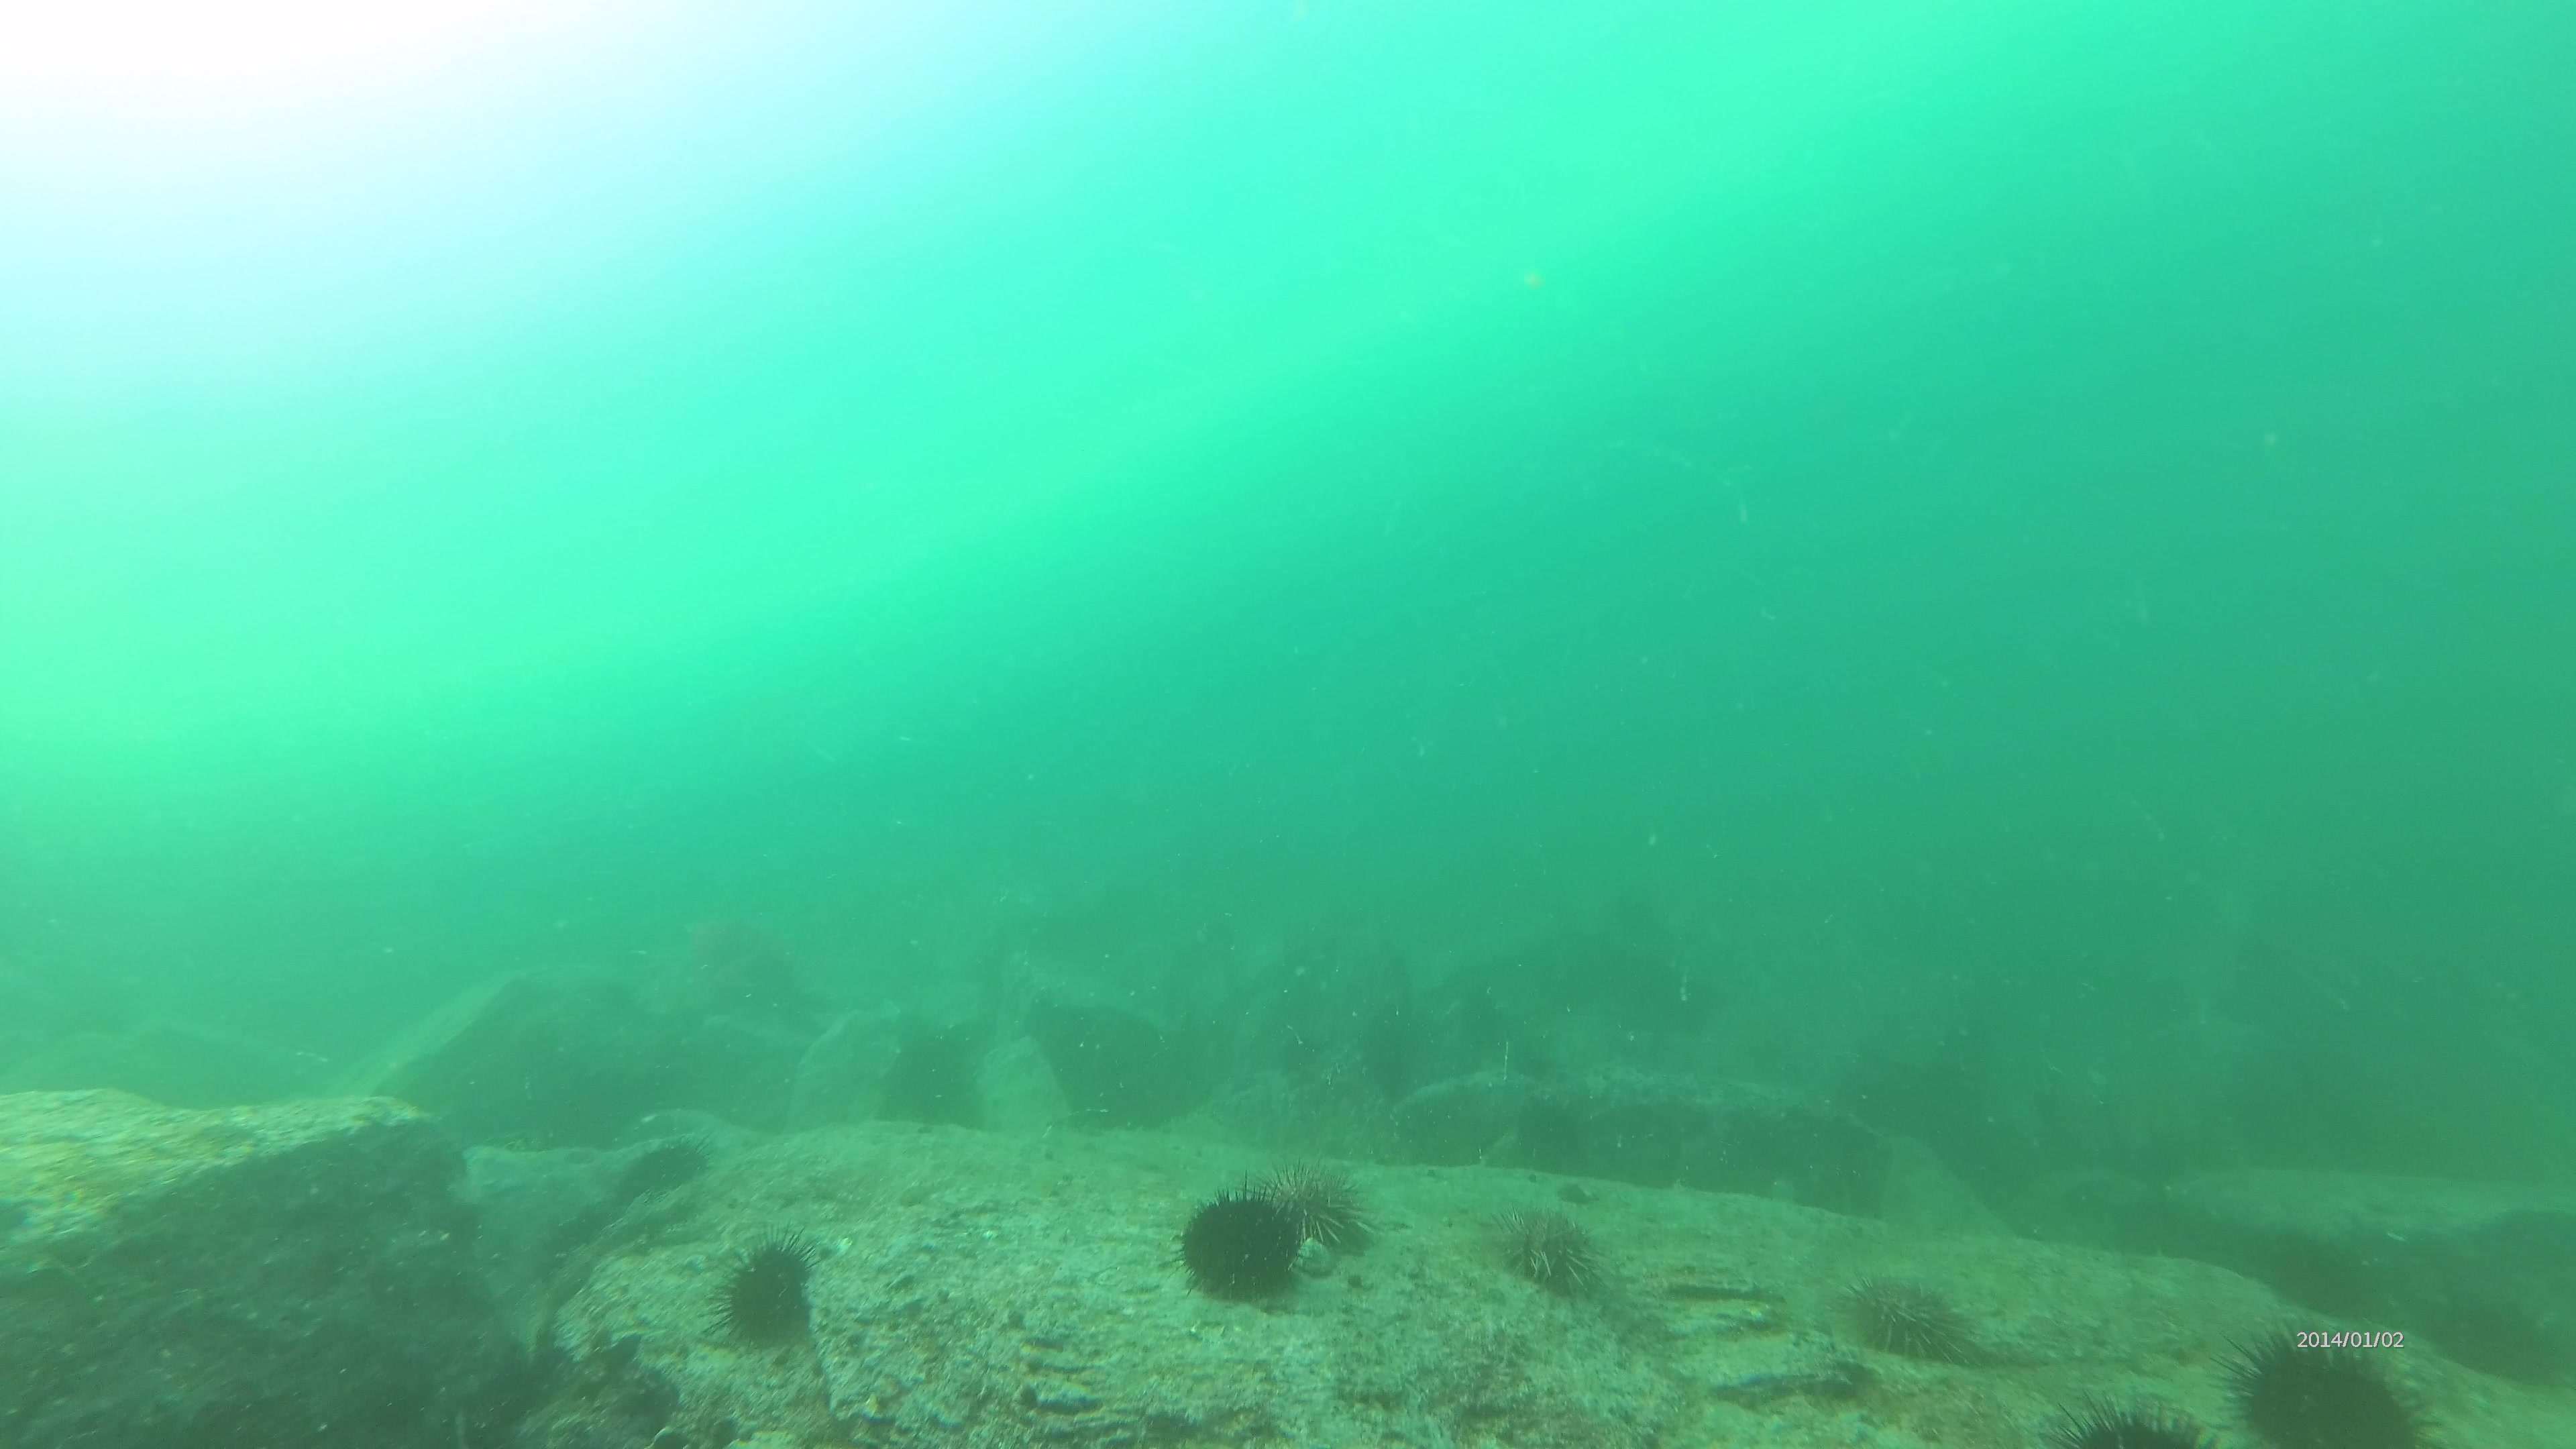echinus: (2238, 1318, 2404, 1447), (1177, 1187, 1297, 1309), (713, 1233, 821, 1346), (1858, 1267, 1973, 1364), (1495, 1200, 1610, 1297), (1269, 1157, 1371, 1263), (616, 1141, 711, 1210)
